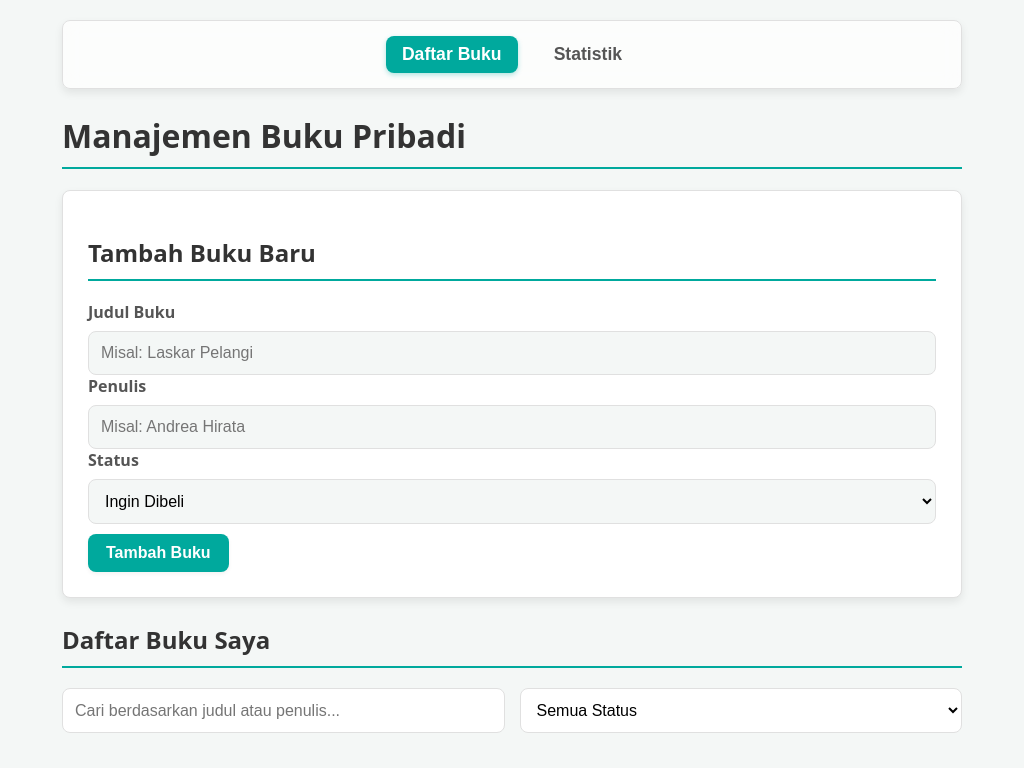
Test: Aplikasi Manajemen Buku (dengan User-Event) › 3. Validasi form (error handling)
Click the button "Tambah Buku". click: (158, 553)
box: x1=88 y1=534 x2=229 y2=572
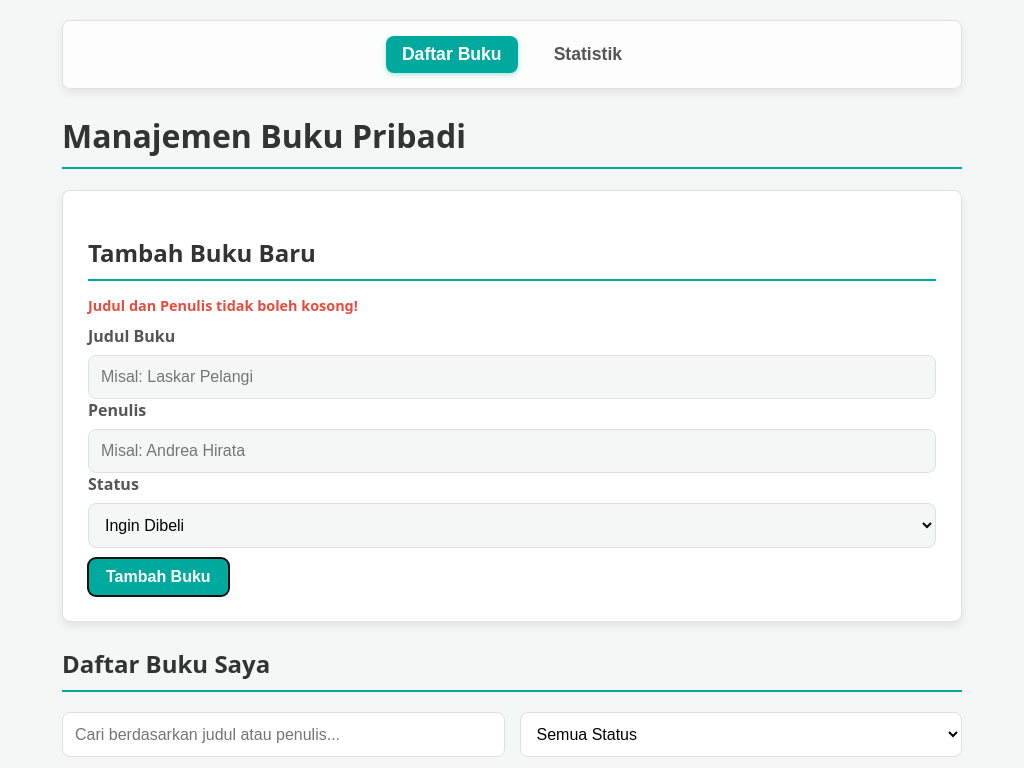
Expected: the text "Judul dan Penulis tidak boleh kosong!" is shown, x1=88 y1=296 x2=358 y2=315
